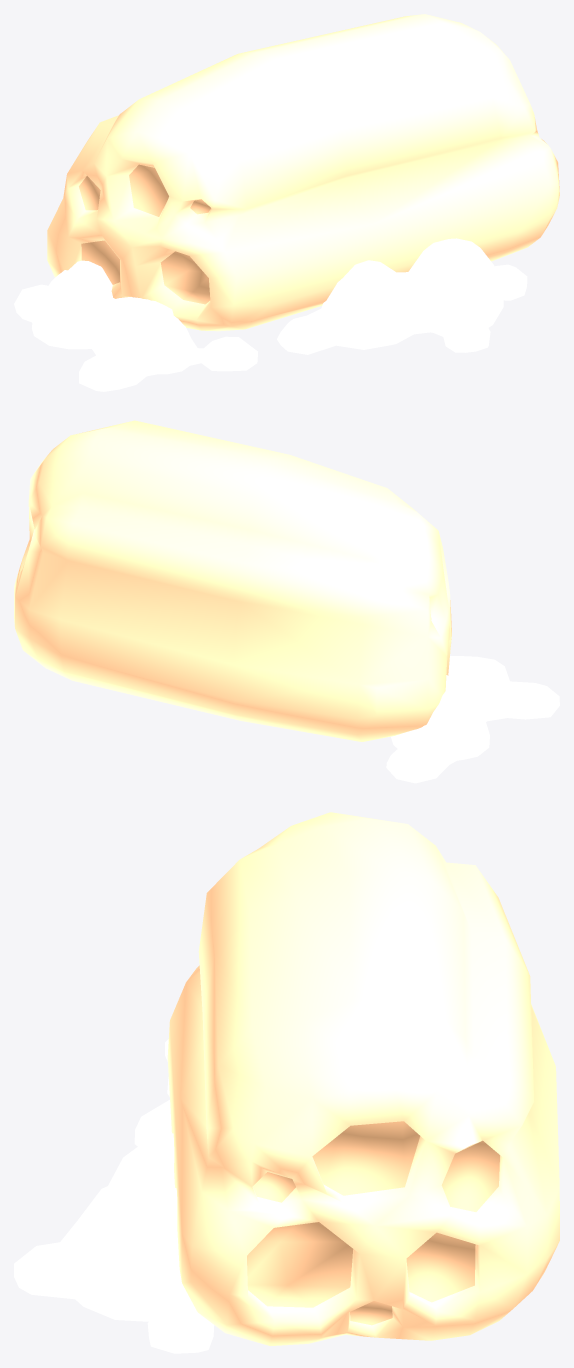
File: loofah.fbx
The picture shows the model from 3 angles, top to bottom: view 1: azimuth 30°, elevation 25°; view 2: azimuth 150°, elevation 25°; view 3: azimuth 270°, elevation 25°; orthographic projection. The views are drawn at different scales.
Visible parts, largest first — view 1: LOOFAH; view 2: LOOFAH; view 3: LOOFAH.
Part boxes in pixels (x1=…): LOOFAH: x1=14, y1=14, x2=559, y2=391; LOOFAH: x1=14, y1=420, x2=559, y2=783; LOOFAH: x1=14, y1=812, x2=559, y2=1353.
Size of the model in its own units: 899 by 425 by 585.
